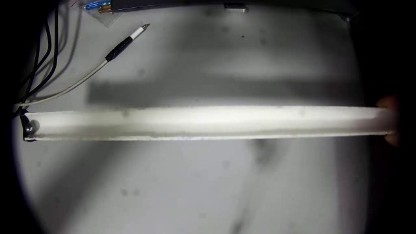gangzhu: (23, 122, 36, 134)
